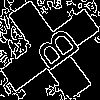B: (25, 25, 82, 79)
